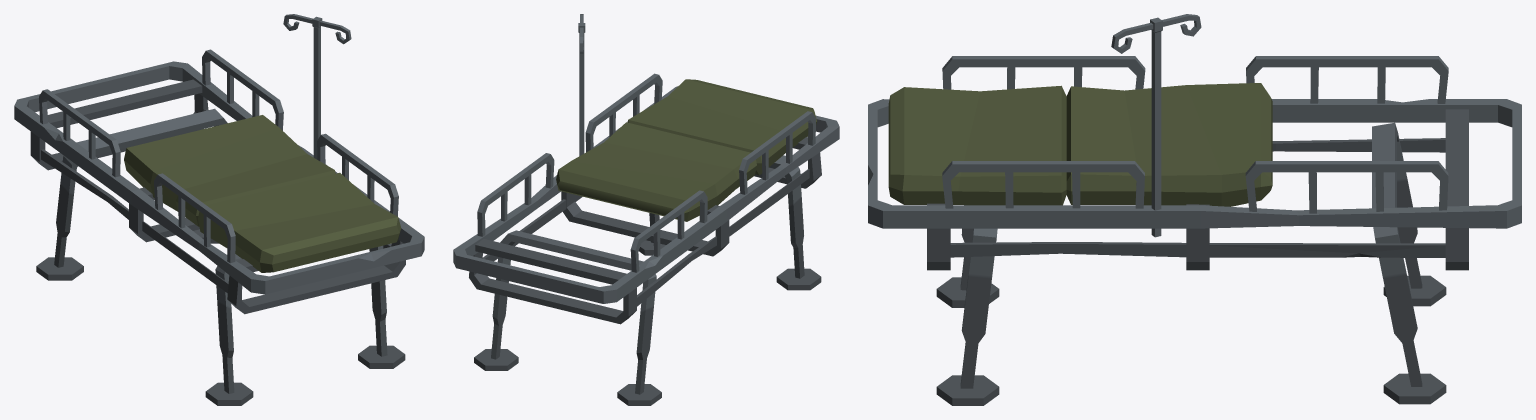
File: SM_Prop_Bed_Medical_01.glb
The picture shows the model from 3 angles, left to right: view 1: azimuth 30°, elevation 25°; view 2: azimuth 150°, elevation 25°; view 3: azimuth 270°, elevation 25°; orthographic projection. The views are drawn at different scales.
Parts seen in each view (by area): view 1: SM_Prop_Bed_Medical_01; view 2: SM_Prop_Bed_Medical_01; view 3: SM_Prop_Bed_Medical_01.
Boxes of the visible parts, box(x1,y1,x2,y2) form: SM_Prop_Bed_Medical_01: box(14, 14, 424, 405); SM_Prop_Bed_Medical_01: box(453, 14, 839, 405); SM_Prop_Bed_Medical_01: box(868, 14, 1521, 405).
Size of the model in its own units: 1.06 by 1.49 by 2.33.
1 material, 1 textured.
